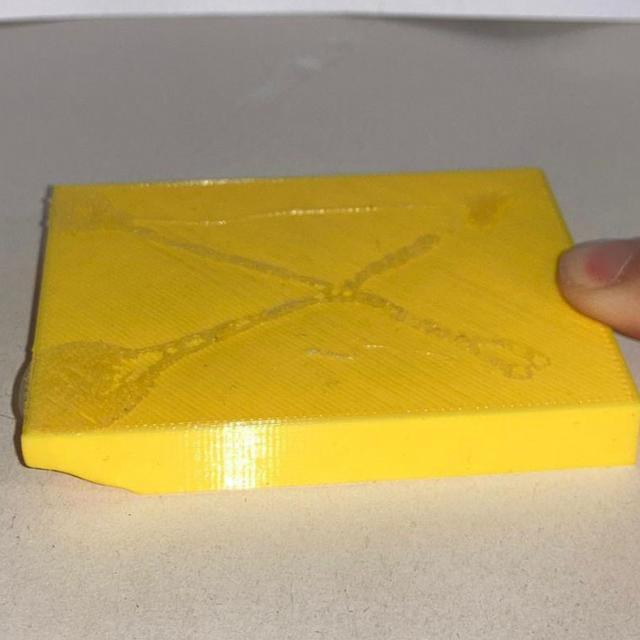Warping: (25, 447, 137, 501)
